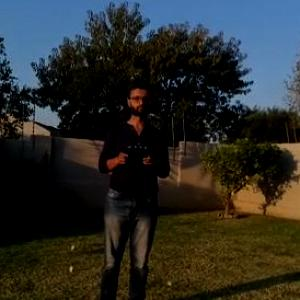follow: (95, 74, 180, 299)
